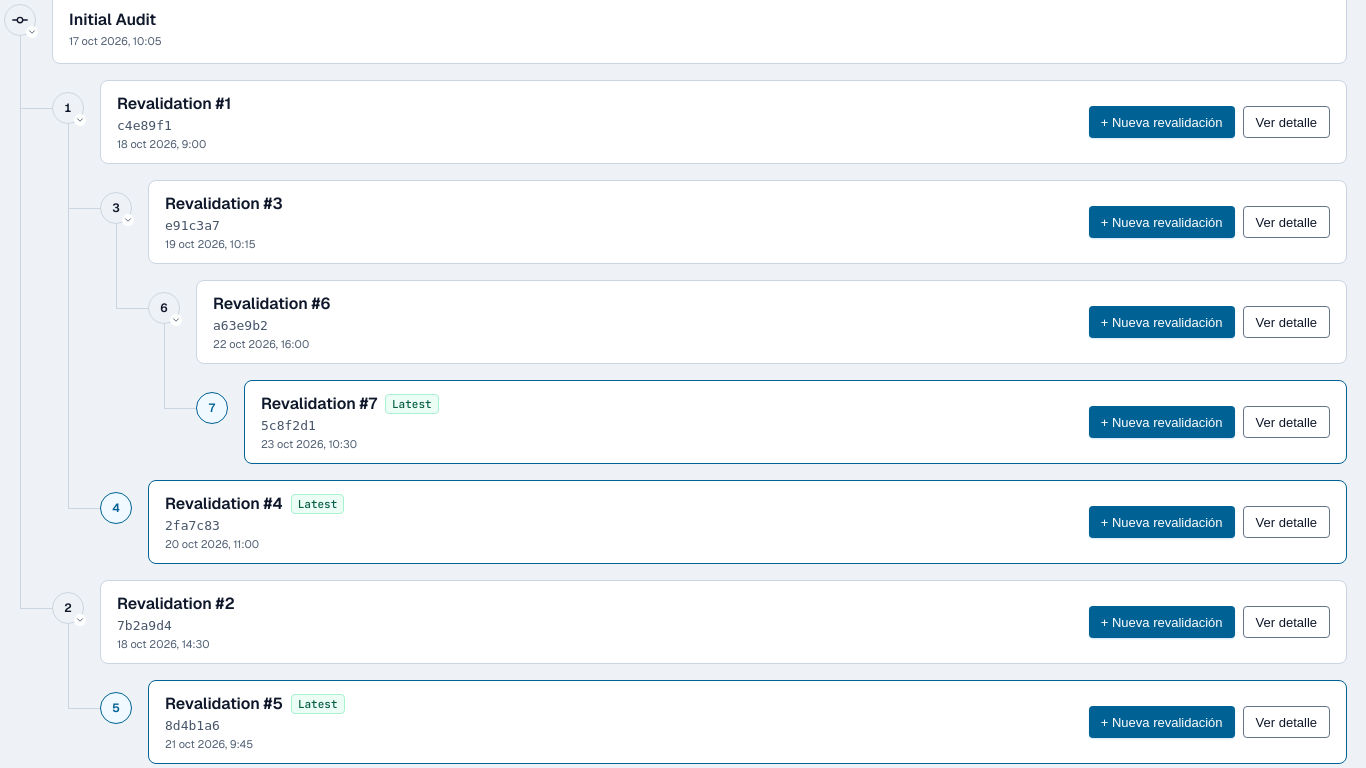
AuditValidationHistory › opens a localized form from another branch and closes via the Modal close button
The image size is (1366, 768).
(page scrolled)
What coordinates should you click on to do the following:
click the button "+ Nueva revalidación" in the row of "8d4b1a6"
I would click on:
 (1162, 722)
Its box is [1089,706,1235,738].
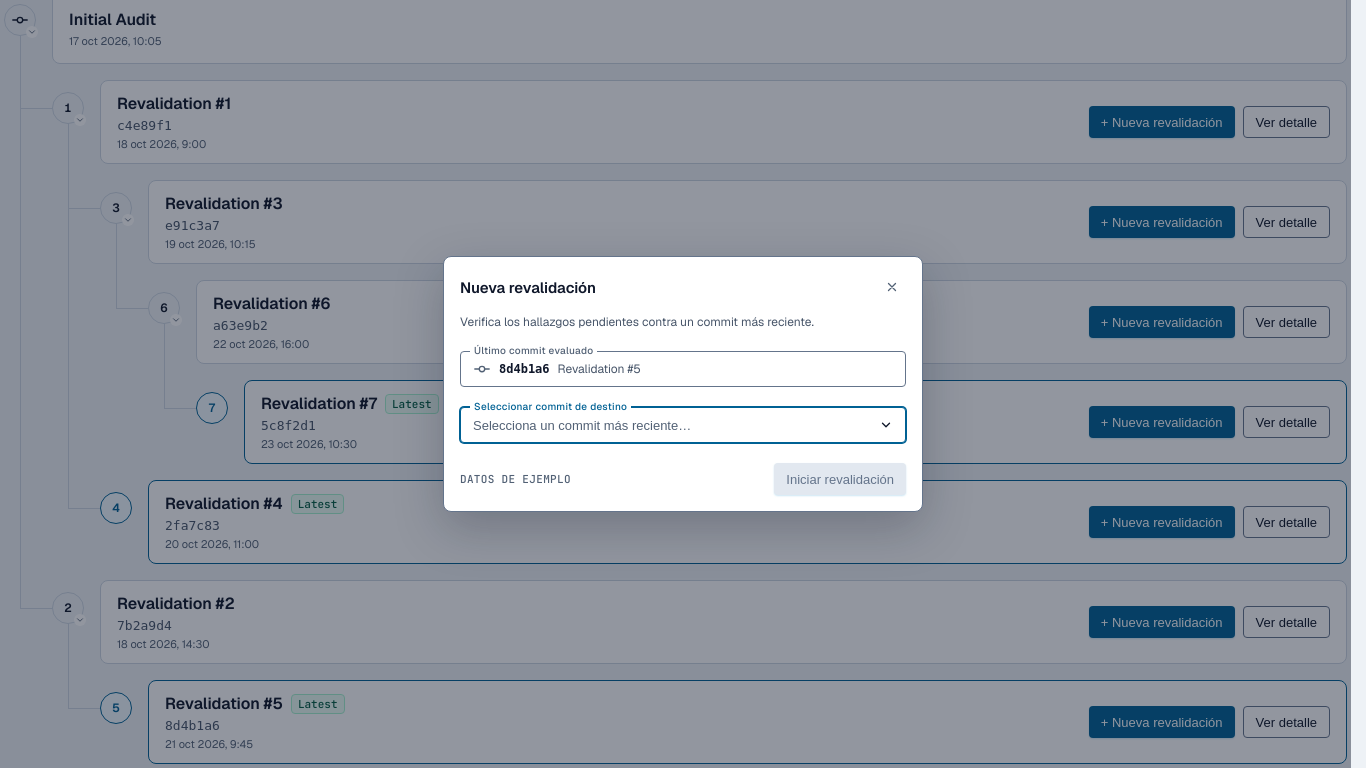
Expected: the text "Último commit evaluado" is shown, [470,343,597,359]
Expected: the text "Revalidation #5" is shown, [558,360,641,378]
Expected: the button "Iniciar revalidación" is disabled, [774,463,906,495]
What coordinates should you click on to do the following:
click the button named "Cerrar"
I would click on:
 (892, 287)
Its box is [878,273,906,301].
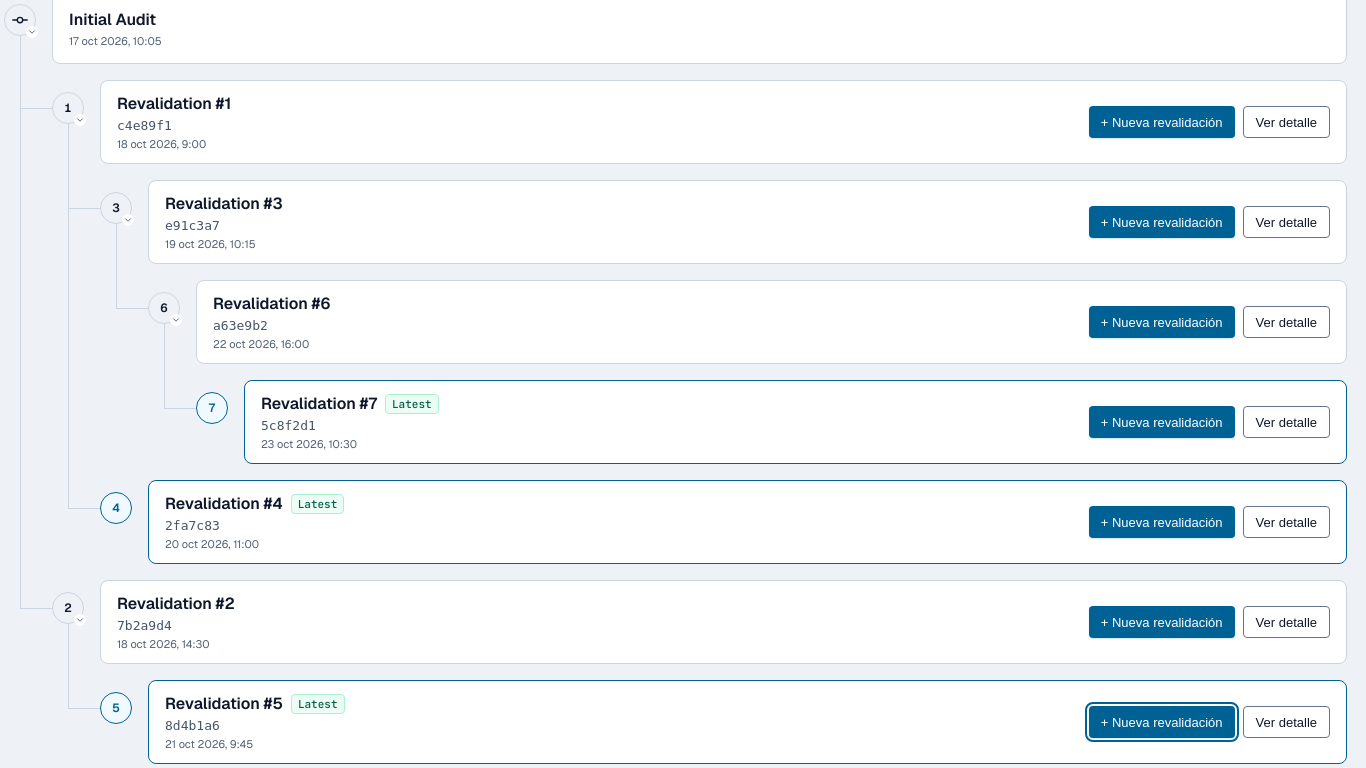
Expected: the dialog is gone
